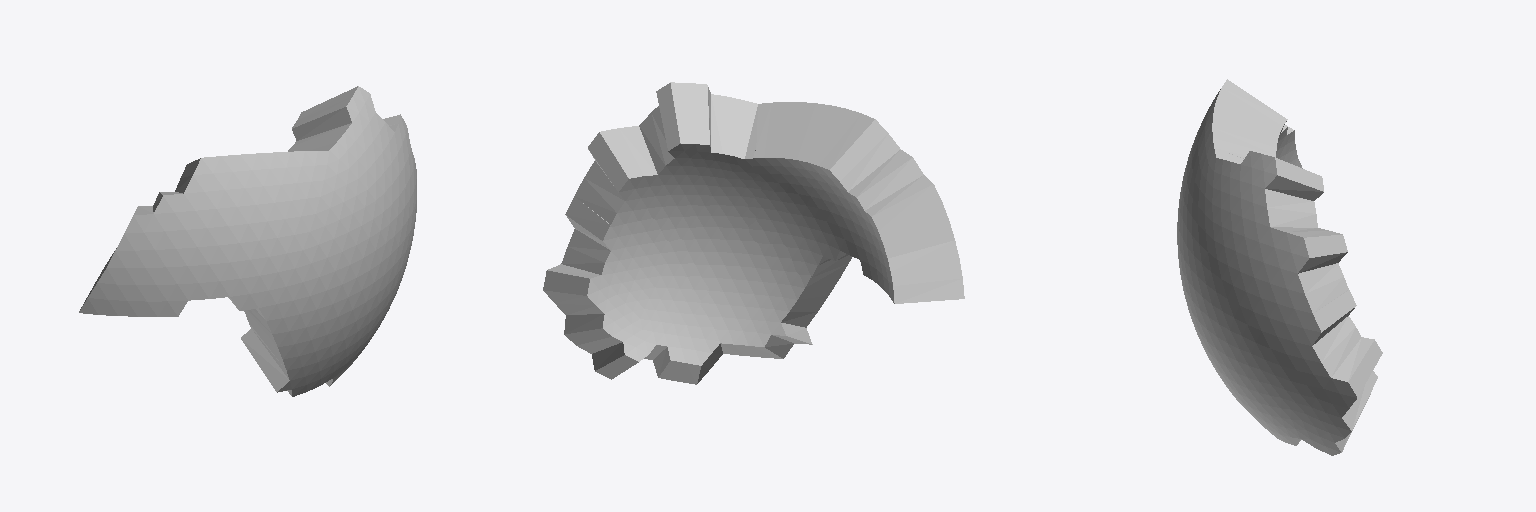
File: clouds_17.obj
3 renders of one model, left to right at view 1: azimuth 30°, elevation 25°; view 2: azimuth 150°, elevation 25°; view 3: azimuth 270°, elevation 25°, orthographic.
Parts seen in each view (by area): view 1: Icosphere.042; view 2: Icosphere.042; view 3: Icosphere.042.
Boxes of the visible parts, x1=… form: Icosphere.042: x1=79, y1=86, x2=416, y2=396; Icosphere.042: x1=543, y1=82, x2=964, y2=384; Icosphere.042: x1=1177, y1=79, x2=1382, y2=455.
Size of the model in its own units: 17.82 by 13.41 by 8.48.